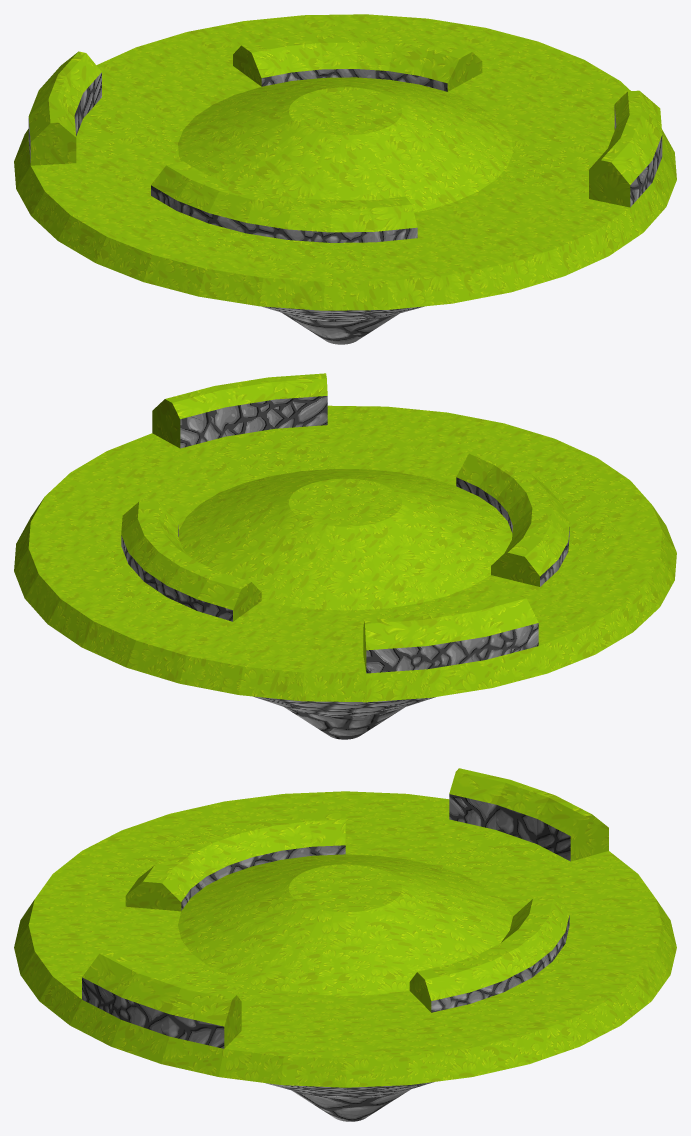
File: IslaBandera.glb
3 views of the same model, one above another, from view 1: azimuth 30°, elevation 25°; view 2: azimuth 150°, elevation 25°; view 3: azimuth 270°, elevation 25° (orthographic).
Visible parts, largest first — view 1: Circle.001; view 2: Circle.001; view 3: Circle.001.
Boxes of the visible parts, x1,y1,x2,y2 form: Circle.001: (14, 14, 676, 344); Circle.001: (14, 373, 676, 739); Circle.001: (14, 768, 676, 1121).
Size of the model in its own units: 21.72 by 8.34 by 21.72.
2 materials, 2 textured.
